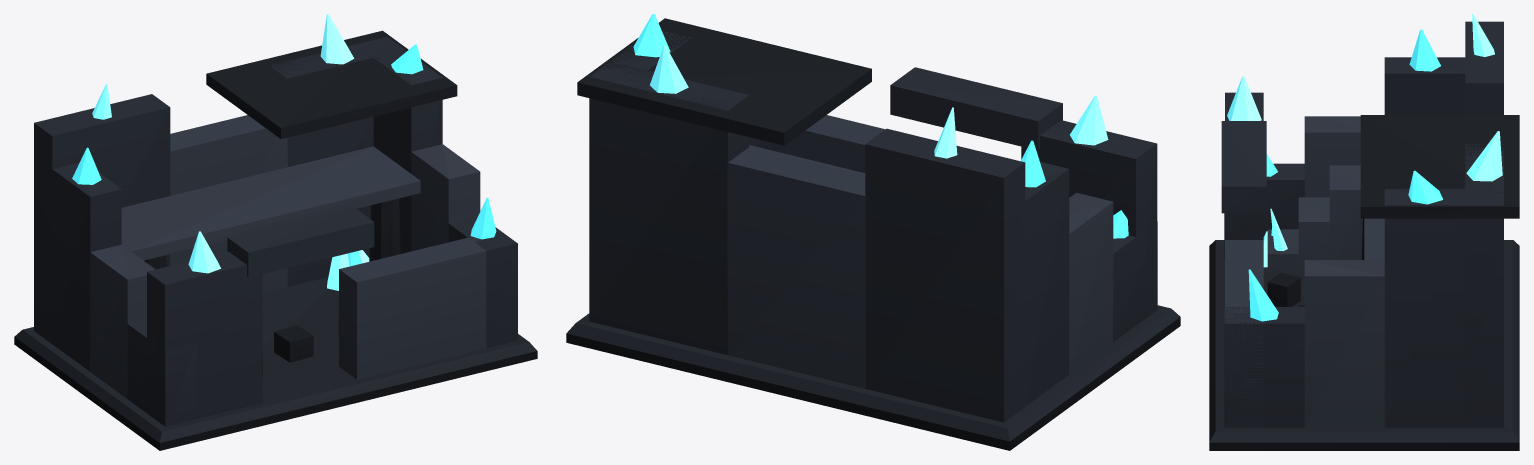
Rendered from crystal-sanctum.glb.
3 views of the same model, side by side, from view 1: azimuth 30°, elevation 25°; view 2: azimuth 150°, elevation 25°; view 3: azimuth 270°, elevation 25° (orthographic). The views are drawn at different scales.
Size of the model in its own units: 6 by 4 by 4.
